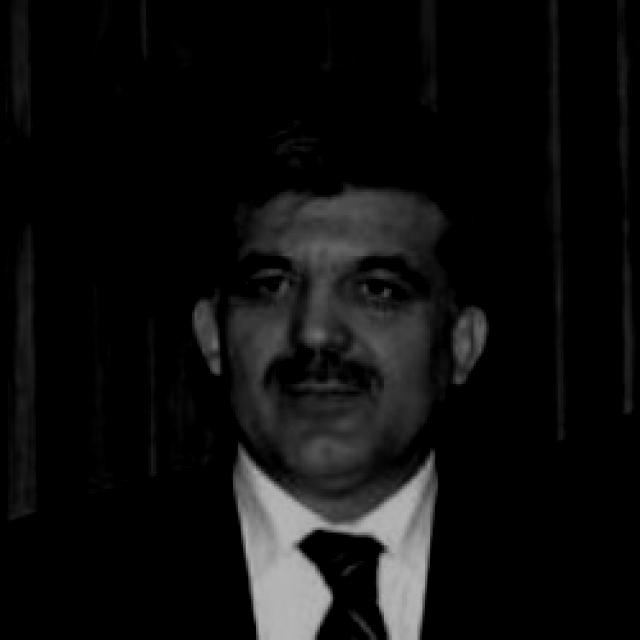real: (214, 91, 498, 524), (235, 252, 428, 317)
